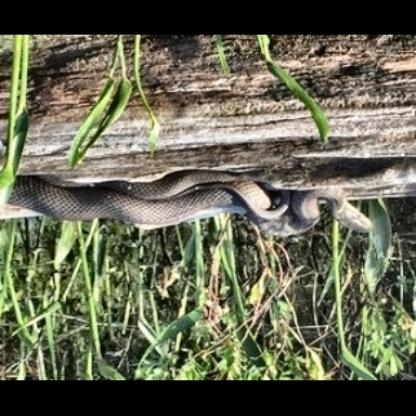Snake: (0, 55, 416, 310), (3, 167, 416, 368)
